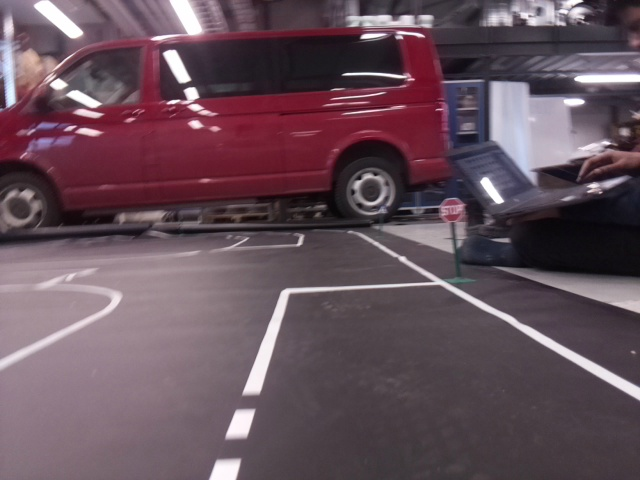Stop: (437, 197, 465, 221)
